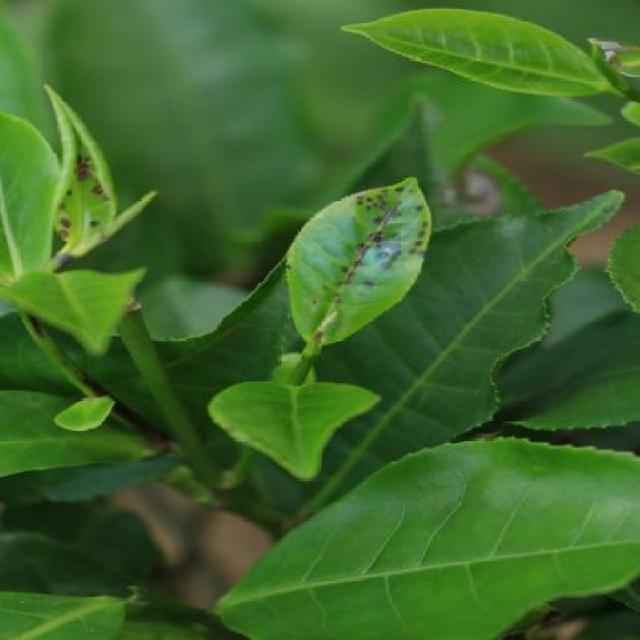Tea Mosquito bug infested leaf: (283, 157, 431, 346), (32, 115, 131, 271)
